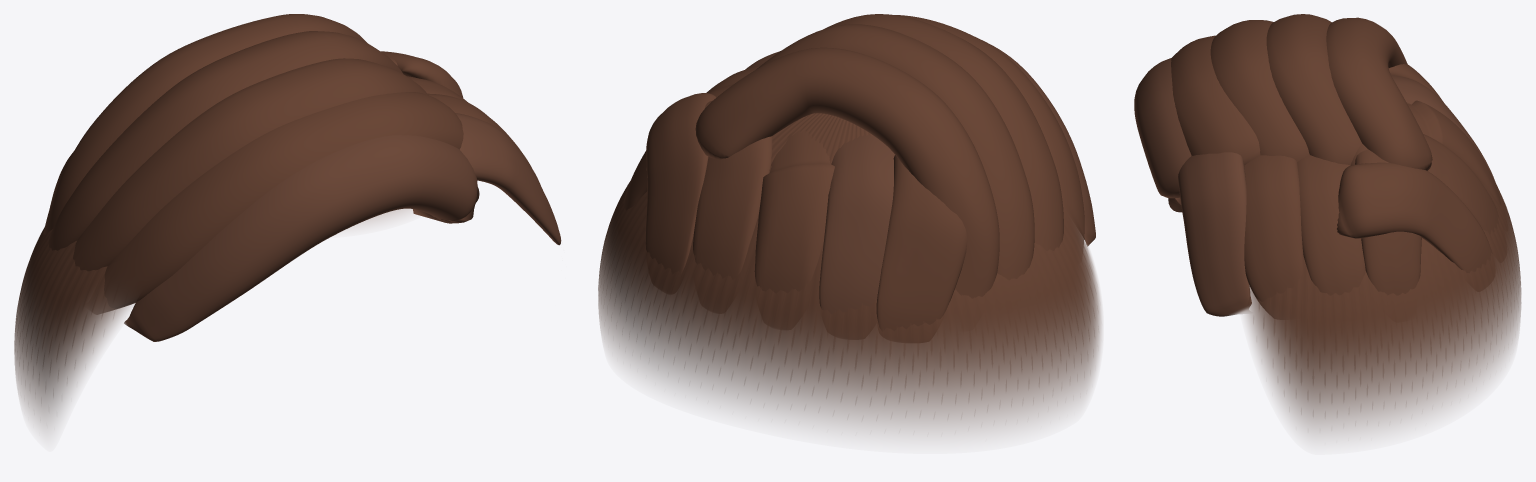
Rendered from Masculine-taper-hair257.glb.
3 views of the same model, side by side, from view 1: azimuth 30°, elevation 25°; view 2: azimuth 150°, elevation 25°; view 3: azimuth 270°, elevation 25° (orthographic). The views are drawn at different scales.
Parts seen in each view (by area): view 1: 226 hair / Hair252 / sculpted locks, 226 hair / Hair252 / gentle tonal variation, 226 hair / Hair257 / smooth side fade, 226 hair / Hair257 / directional fade marks; view 2: 226 hair / Hair252 / sculpted locks, 226 hair / Hair257 / smooth side fade, 226 hair / Hair252 / gentle tonal variation, 226 hair / Hair257 / directional fade marks; view 3: 226 hair / Hair252 / sculpted locks, 226 hair / Hair257 / smooth side fade, 226 hair / Hair252 / gentle tonal variation, 226 hair / Hair257 / directional fade marks.
Part boxes in pixels (left/top/right/bottom): 226 hair / Hair252 / sculpted locks: left=43, top=14, right=540, bottom=313; 226 hair / Hair252 / gentle tonal variation: left=124, top=113, right=561, bottom=341; 226 hair / Hair257 / smooth side fade: left=14, top=209, right=411, bottom=428; 226 hair / Hair257 / directional fade marks: left=16, top=229, right=106, bottom=375; 226 hair / Hair252 / sculpted locks: left=623, top=14, right=1084, bottom=331; 226 hair / Hair257 / smooth side fade: left=598, top=113, right=1101, bottom=433; 226 hair / Hair252 / gentle tonal variation: left=745, top=40, right=1095, bottom=314; 226 hair / Hair257 / directional fade marks: left=604, top=183, right=1094, bottom=402; 226 hair / Hair252 / sculpted locks: left=1171, top=14, right=1501, bottom=316; 226 hair / Hair257 / smooth side fade: left=1244, top=102, right=1521, bottom=435; 226 hair / Hair252 / gentle tonal variation: left=1134, top=58, right=1495, bottom=316; 226 hair / Hair257 / directional fade marks: left=1259, top=189, right=1517, bottom=398.
Bounding box in the file's own units: 0.9723 × 0.6944 × 0.7439.
